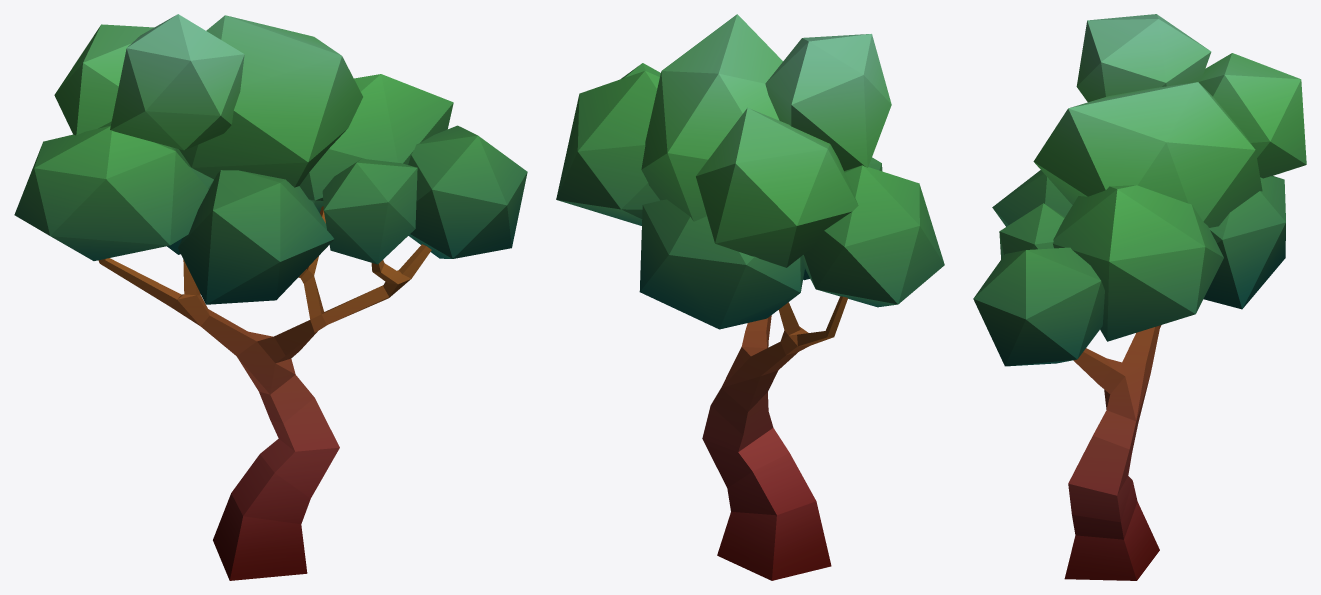
The model's file is Gradient_Tree_Oak_large_green.glb.
3 views of the same model, side by side, from view 1: azimuth 30°, elevation 25°; view 2: azimuth 150°, elevation 25°; view 3: azimuth 270°, elevation 25° (orthographic). The views are drawn at different scales.
Visible parts, largest first — view 1: Oak big g; view 2: Oak big g; view 3: Oak big g.
Boxes of the visible parts, bbox=[...] form: Oak big g: bbox=[14, 14, 527, 580]; Oak big g: bbox=[556, 14, 944, 580]; Oak big g: bbox=[973, 14, 1306, 580].
Size of the model in its own units: 12.06 by 15.24 by 8.81.
1 material, 1 textured.
